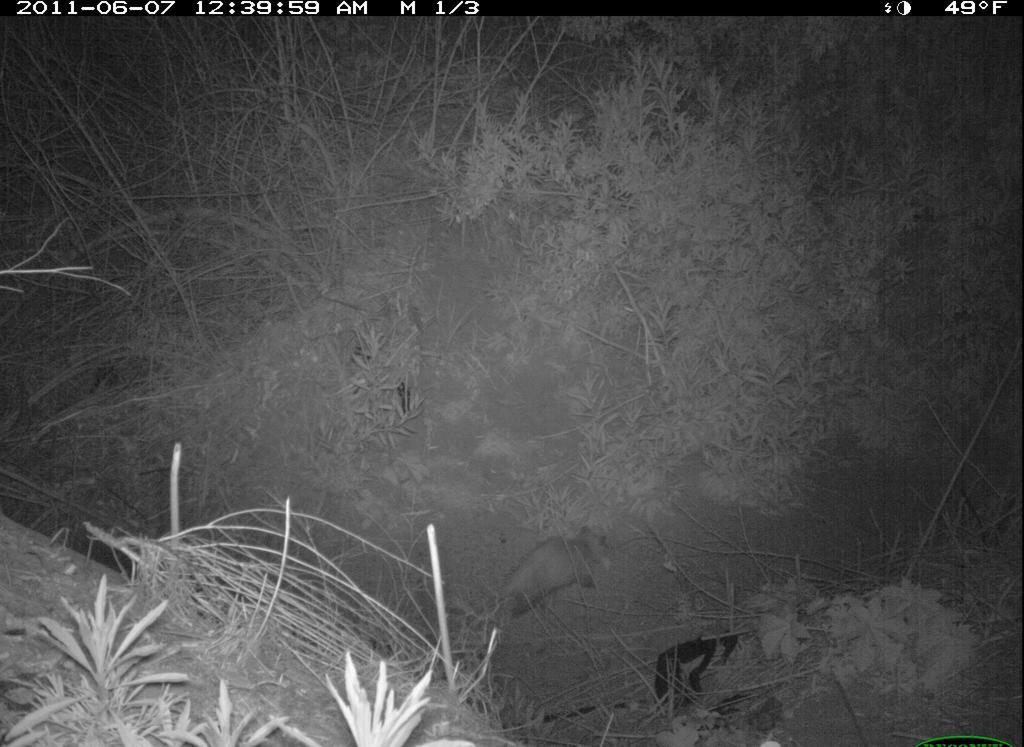opossum: (457, 515, 620, 624)
